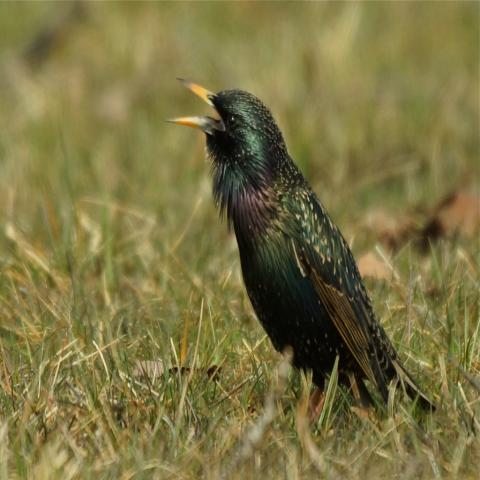bird: (164, 73, 437, 427)
